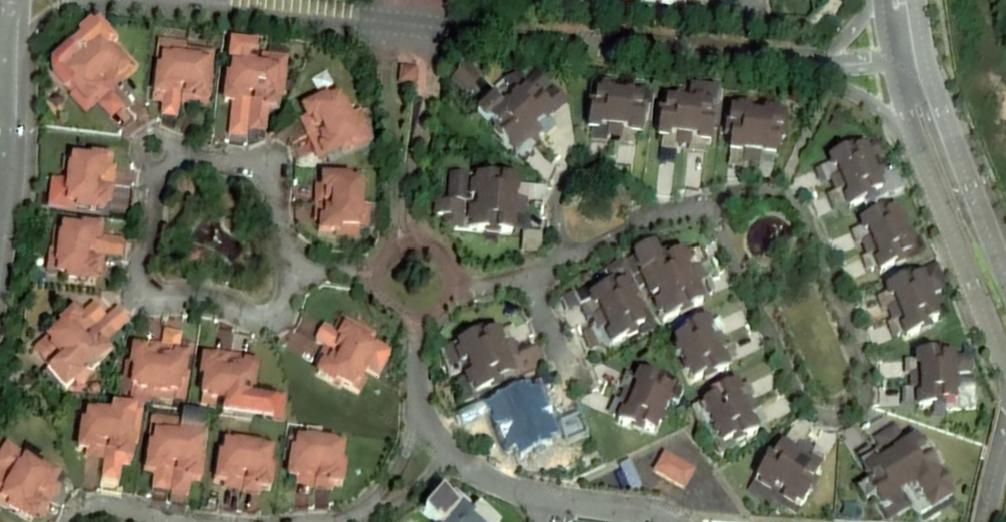building: (45, 2, 148, 134), (846, 412, 968, 521), (279, 302, 400, 403), (735, 407, 846, 517), (466, 54, 578, 161), (432, 316, 556, 411), (555, 251, 661, 362), (630, 224, 742, 326), (694, 354, 808, 451), (663, 288, 772, 389), (572, 355, 691, 445), (38, 301, 142, 399), (422, 156, 538, 238), (278, 82, 380, 172), (836, 188, 935, 279), (193, 341, 295, 426), (472, 377, 567, 468), (871, 251, 963, 342), (115, 316, 198, 412), (285, 161, 380, 242), (38, 210, 135, 289), (811, 131, 899, 215), (25, 289, 118, 368), (145, 34, 220, 125), (652, 70, 726, 160), (899, 332, 983, 410), (0, 430, 70, 522), (578, 69, 657, 148), (216, 28, 268, 141), (721, 86, 800, 159), (51, 135, 142, 190), (98, 392, 148, 488), (41, 172, 134, 220), (247, 43, 294, 134), (168, 418, 214, 502), (312, 424, 357, 499), (135, 417, 175, 496), (208, 425, 252, 495), (241, 430, 282, 502), (281, 422, 319, 499), (68, 396, 109, 464)
